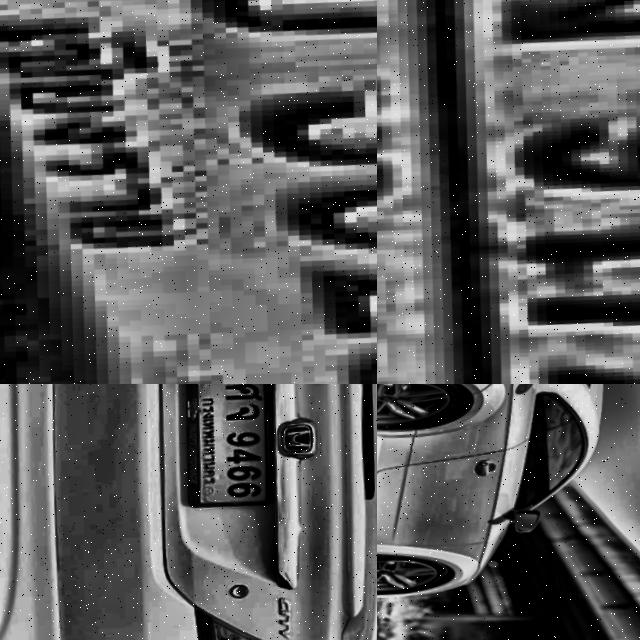license-plate: (0, 0, 377, 384), (377, 0, 640, 384), (171, 384, 276, 515)
